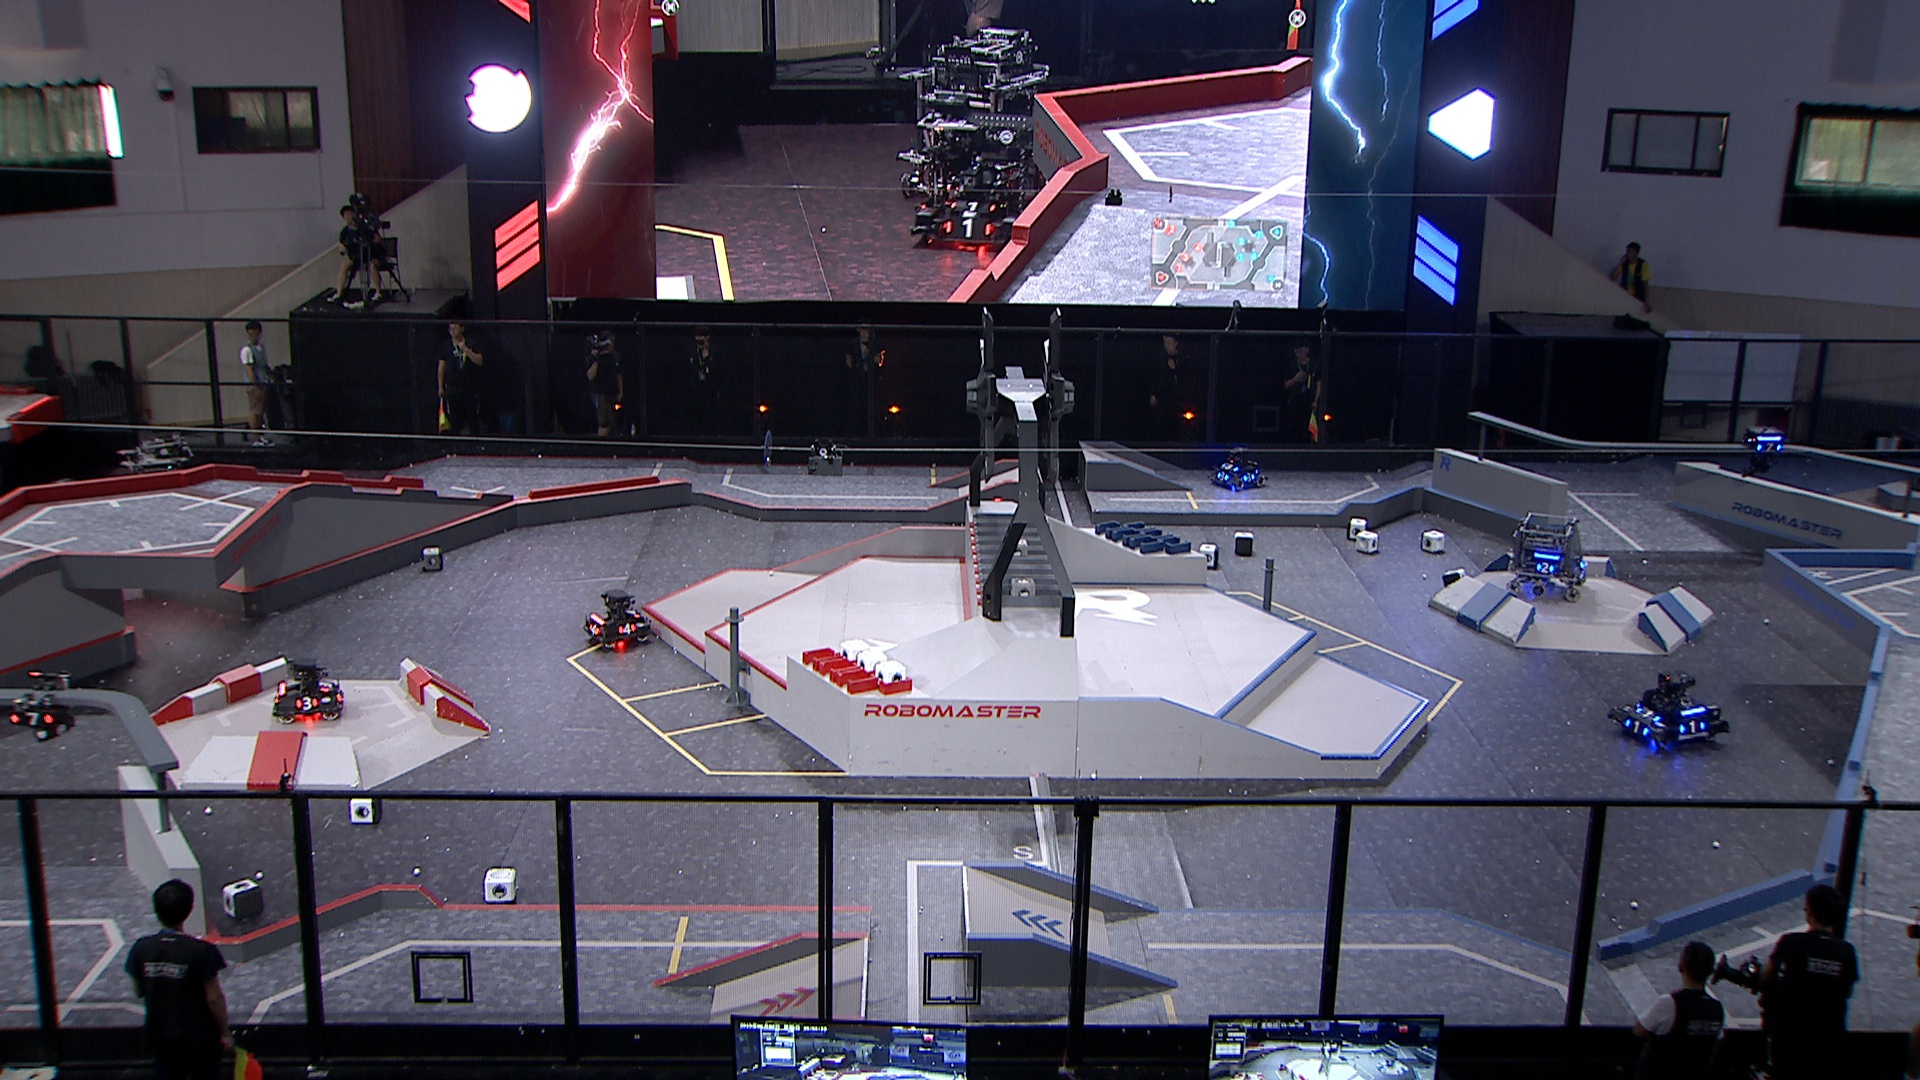armor: (8, 712, 55, 727), (1623, 717, 1652, 738), (1677, 717, 1708, 735), (1534, 560, 1560, 578), (1755, 442, 1785, 456), (1634, 707, 1662, 723), (291, 698, 319, 712), (617, 622, 637, 636), (1215, 469, 1232, 484), (318, 679, 334, 694), (1220, 462, 1240, 472), (626, 608, 645, 618), (588, 624, 603, 637), (1244, 471, 1254, 484)
car: (1609, 670, 1730, 756), (105, 434, 202, 531), (1501, 513, 1589, 603), (576, 585, 655, 651), (269, 655, 345, 723), (1207, 446, 1269, 493)
ignore: (903, 26, 1051, 194), (910, 161, 1025, 255)
watcher: (5, 670, 79, 741), (1737, 423, 1793, 475)
